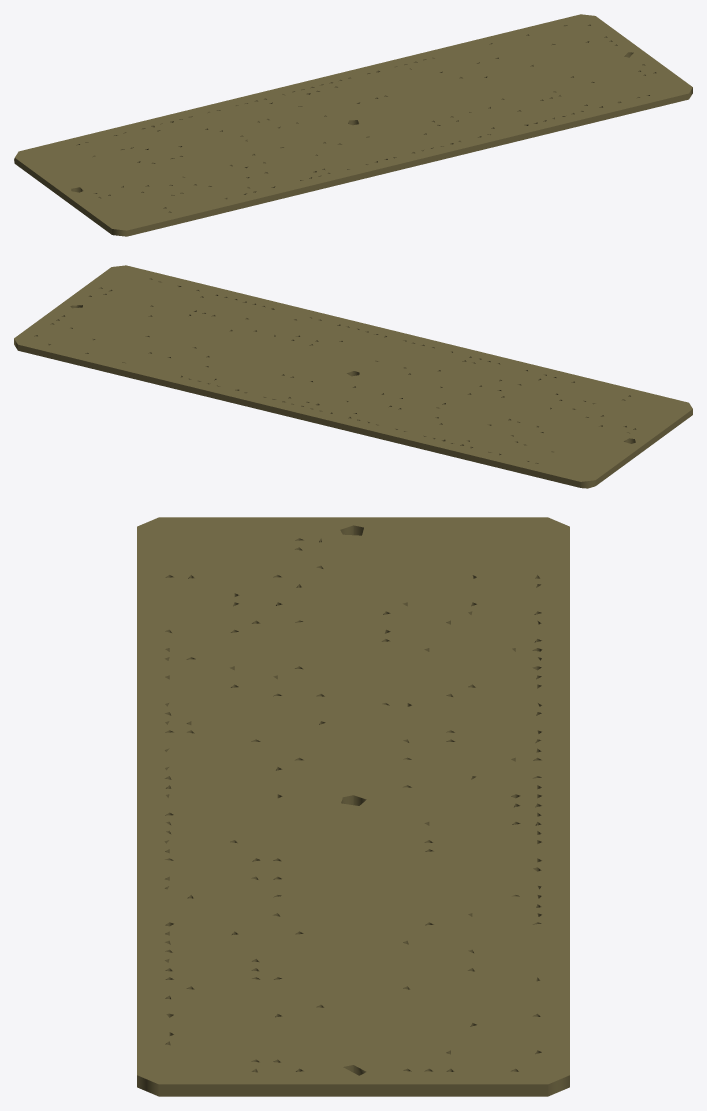
File: ada-1606.glb
3 renders of one model, top to bottom at view 1: azimuth 30°, elevation 25°; view 2: azimuth 150°, elevation 25°; view 3: azimuth 270°, elevation 25°, orthographic. The views are drawn at different scales.
Visible parts, largest first — view 1: 0.16666666666666666_0.16666666666666666_0.08333333333333333_; view 2: 0.16666666666666666_0.16666666666666666_0.08333333333333333_; view 3: 0.16666666666666666_0.16666666666666666_0.08333333333333333_.
Boxes of the visible parts, bbox=[...] form: 0.16666666666666666_0.16666666666666666_0.08333333333333333_: bbox=[14, 14, 692, 236]; 0.16666666666666666_0.16666666666666666_0.08333333333333333_: bbox=[14, 265, 692, 488]; 0.16666666666666666_0.16666666666666666_0.08333333333333333_: bbox=[137, 517, 569, 1096].
Size of the model in its own units: 15.75 by 0.1576 by 5.08.
